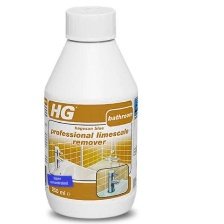cleaning_solution: (40, 2, 141, 222)
